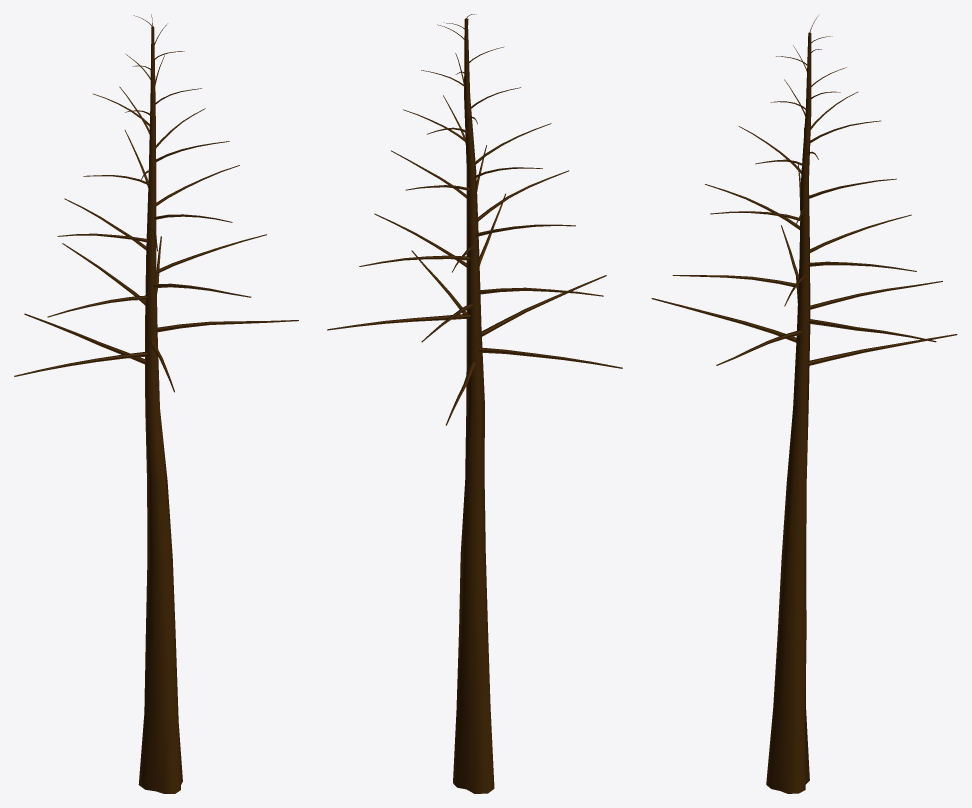
Rendered from drzewo3.FBX.
The picture shows the model from 3 angles, left to right: view 1: azimuth 30°, elevation 25°; view 2: azimuth 150°, elevation 25°; view 3: azimuth 270°, elevation 25°; orthographic projection. The views are drawn at different scales.
Visible parts, largest first — view 1: Foliage001; view 2: Foliage001; view 3: Foliage001.
Boxes of the visible parts, box(x1,y1,x2,y2) form: Foliage001: box(14, 14, 298, 793); Foliage001: box(327, 14, 622, 793); Foliage001: box(651, 14, 957, 793).
Bounding box in the file's own units: 9.41 × 10.08 × 27.75.
